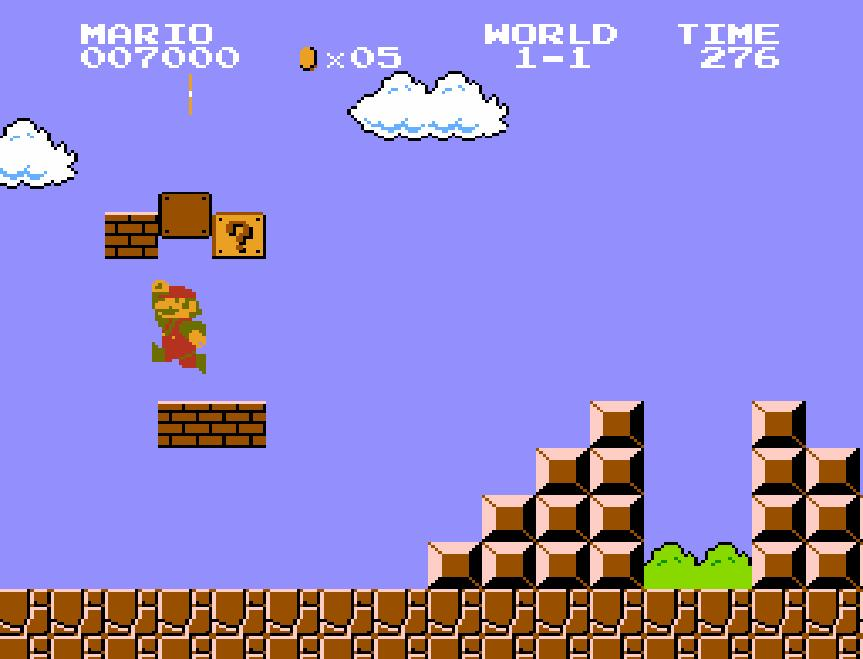big_mario: (148, 278, 206, 376)
